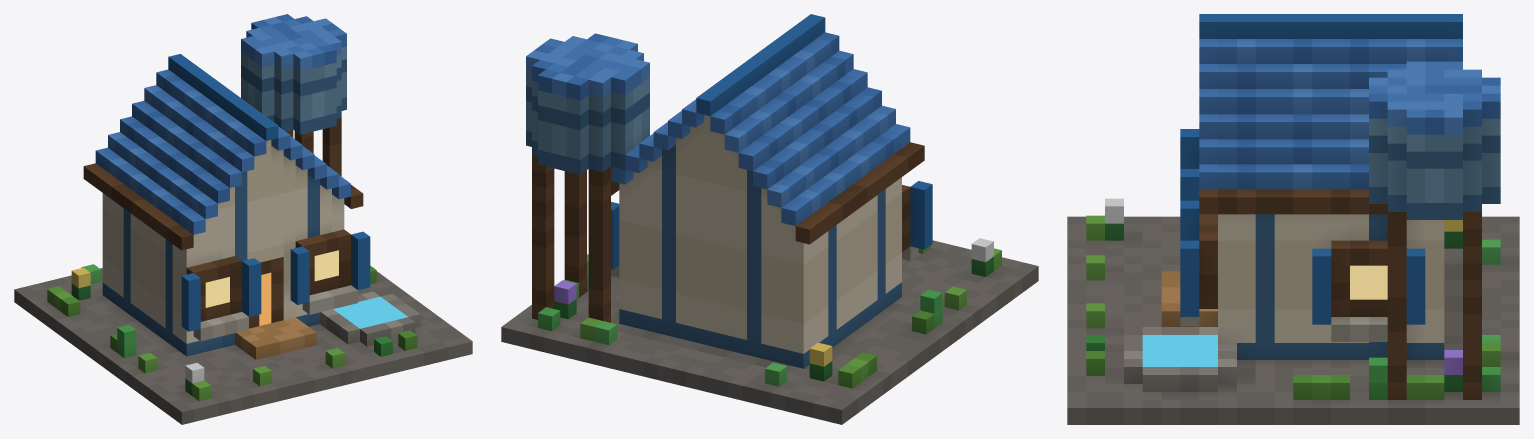
The model's file is b_habitat_2.glb.
3 renders of one model, left to right at view 1: azimuth 30°, elevation 25°; view 2: azimuth 150°, elevation 25°; view 3: azimuth 270°, elevation 25°, orthographic. The views are drawn at different scales.
Parts seen in each view (by area): view 1: solid, glow; view 2: solid; view 3: solid, glow.
Boxes of the visible parts, <box> form: solid: <box>14,14,472,424</box>; glow: <box>205,250,407,328</box>; solid: <box>501,14,1038,424</box>; solid: <box>1067,14,1519,424</box>; glow: <box>1142,265,1387,366</box>.
Size of the model in its own units: 3 by 2.25 by 3.
